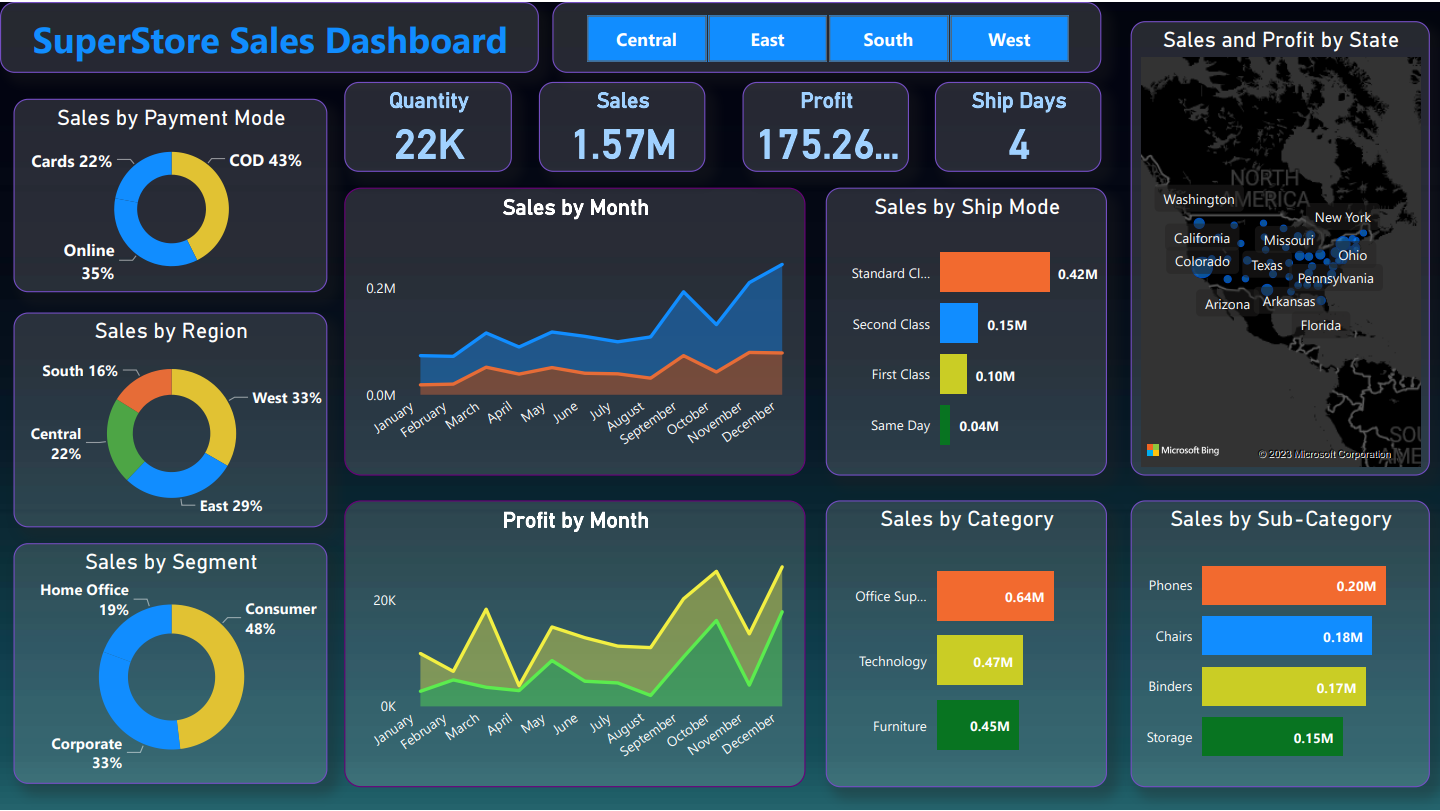

What the dashboard file says about the page in this screenshot:
{"tool":"powerbi","page":{"name":"Dashboard","canvas":[1280,720],"ordinal":0},"visuals":[{"type":"clusteredBarChart","title":"Sales by Category","fields":{"Category":["SuperStore_Sales_Dataset.Category"],"Y":["Sum(SuperStore_Sales_Dataset.Sales)"]},"box":[734.5,442.6,249.6,255.7],"z":0},{"type":"clusteredBarChart","title":"Sales by Sub-Category","fields":{"Y":["Sum(SuperStore_Sales_Dataset.Sales)"],"Category":["SuperStore_Sales_Dataset.Sub-Category"]},"box":[1004.6,442.6,266.5,255.7],"z":1000},{"type":"clusteredBarChart","title":"Sales by Ship Mode","fields":{"Y":["Sum(SuperStore_Sales_Dataset.Sales)"],"Category":["SuperStore_Sales_Dataset.Ship Mode"]},"box":[734.5,165.2,249.6,255.7],"z":2000},{"type":"stackedAreaChart","title":"Sales by Month","fields":{"Category":["SuperStore_Sales_Dataset.Order Date.Variation.Date Hierarchy.Year","SuperStore_Sales_Dataset.Order Date.Variation.Date Hierarchy.Quarter","SuperStore_Sales_Dataset.Order Date.Variation.Date Hierarchy.Month","SuperStore_Sales_Dataset.Order Date.Variation.Date Hierarchy.Day"],"Y":["Sum(SuperStore_Sales_Dataset.Sales)"],"Series":["SuperStore_Sales_Dataset.Order Date.Variation.Date Hierarchy.Year"]},"box":[306.3,165.2,410.1,255.7],"z":3000},{"type":"stackedAreaChart","title":"Profit by Month","fields":{"Category":["SuperStore_Sales_Dataset.Order Date.Variation.Date Hierarchy.Year","SuperStore_Sales_Dataset.Order Date.Variation.Date Hierarchy.Quarter","SuperStore_Sales_Dataset.Order Date.Variation.Date Hierarchy.Month","SuperStore_Sales_Dataset.Order Date.Variation.Date Hierarchy.Day"],"Series":["SuperStore_Sales_Dataset.Order Date.Variation.Date Hierarchy.Year"],"Y":["Sum(SuperStore_Sales_Dataset.Profit)"]},"box":[306.3,442.6,410.1,255.7],"z":4000},{"type":"map","title":"Sales and Profit by State","fields":{"Category":["SuperStore_Sales_Dataset.State"],"Size":["Sum(SuperStore_Sales_Dataset.Sales)"]},"box":[1004.6,16.9,266.5,404],"z":5000},{"type":"donutChart","title":"Sales by Payment Mode","fields":{"Y":["Sum(SuperStore_Sales_Dataset.Sales)"],"Category":["SuperStore_Sales_Dataset.Payment Mode"]},"box":[12.1,85.6,278.6,172.5],"z":6000},{"type":"textbox","box":[0,0,478.8,62.7],"z":7000},{"type":"donutChart","title":"Sales by Segment","fields":{"Y":["Sum(SuperStore_Sales_Dataset.Sales)"],"Category":["SuperStore_Sales_Dataset.Segment"]},"box":[12.1,481.2,278.6,213.5],"z":8000},{"type":"donutChart","title":"Sales by Region","fields":{"Y":["Sum(SuperStore_Sales_Dataset.Sales)"],"Category":["SuperStore_Sales_Dataset.Region"]},"box":[12.1,276.2,278.6,190.6],"z":9000},{"type":"slicer","fields":{"Values":["SuperStore_Sales_Dataset.Region"]},"box":[490.9,0,488.4,62.7],"z":10000},{"type":"card","title":"Quantity","fields":{"Values":["Sum(SuperStore_Sales_Dataset.Quantity)"]},"box":[306.3,71.2,148.3,79.6],"z":11000},{"type":"card","title":"Sales","fields":{"Values":["Sum(SuperStore_Sales_Dataset.Sales)"]},"box":[478.8,71.2,148.3,79.6],"z":12000},{"type":"card","title":"Profit","fields":{"Values":["Sum(SuperStore_Sales_Dataset.Profit)"]},"box":[659.7,71.2,148.3,79.6],"z":13000},{"type":"card","title":"Ship Days","fields":{"Values":["Avg(SuperStore_Sales_Dataset.Ship days)"]},"box":[831,71.2,148.3,79.6],"z":14000}]}

Visuals, with their boxes in screenshot pixels (x1, y1, x2, y2), scaled from the page's 1280x720 canvas onto the 1440x811 screenshot:
"Sales by Category" clusteredBarChart: 826,499,1107,787
"Sales by Sub-Category" clusteredBarChart: 1130,499,1430,787
"Sales by Ship Mode" clusteredBarChart: 826,186,1107,474
"Sales by Month" stackedAreaChart: 345,186,806,474
"Profit by Month" stackedAreaChart: 345,499,806,787
"Sales and Profit by State" map: 1130,19,1430,474
"Sales by Payment Mode" donutChart: 14,96,327,291
textbox: 0,0,539,71
"Sales by Segment" donutChart: 14,542,327,783
"Sales by Region" donutChart: 14,311,327,526
slicer - SuperStore_Sales_Dataset.Region: 552,0,1102,71
"Quantity" card: 345,80,511,170
"Sales" card: 539,80,705,170
"Profit" card: 742,80,909,170
"Ship Days" card: 935,80,1102,170
